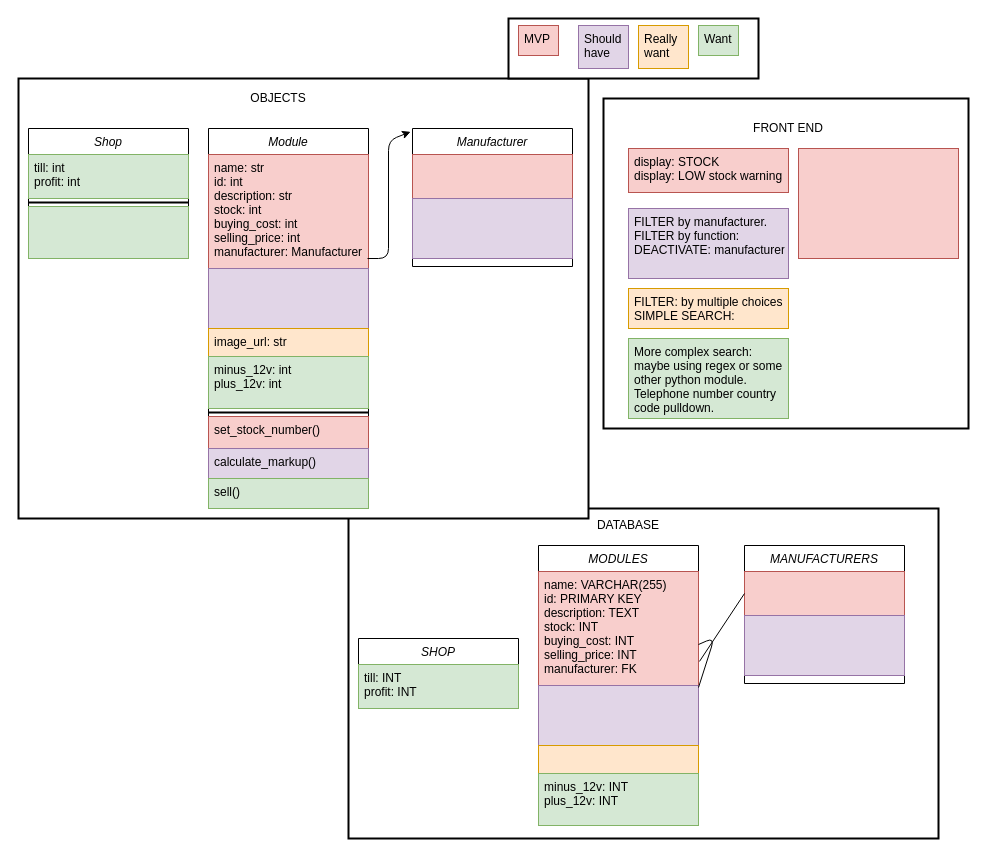
Image size: 986x856. Some labels were removed from this diagram. Each missing label, with the centre of its shape:
address: str phone: str website: str: point 492,228
address: VARCHAR(255) phone: VARCHAR(255) website: VARCHAR(255): point 824,645
CREATE READ UPDATE DELETE for both module and manufacturer: point 878,203
function: str width: int depth: int: point 288,298
function: VARCHAR(255) width: INT depth: INT: point 618,715
image_url: VARCHAR(255): point 618,759
name: str id: int: point 492,176
name: VARCHAR(255) id: PRIMARY KEY: point 824,593
sell_module() calculate_gross_profit(): point 108,232
